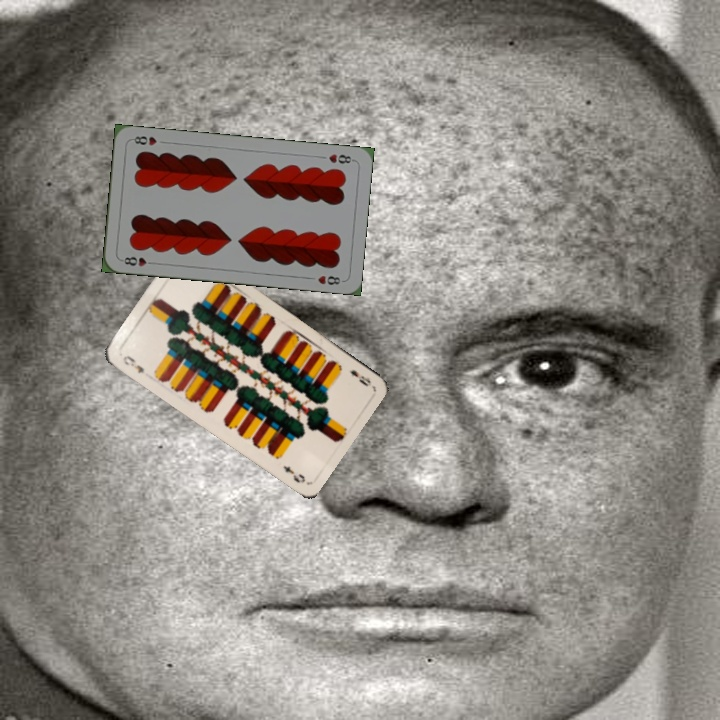E9: (119, 352, 147, 376), (346, 365, 373, 389)
H8: (117, 253, 158, 269), (325, 150, 357, 166)
